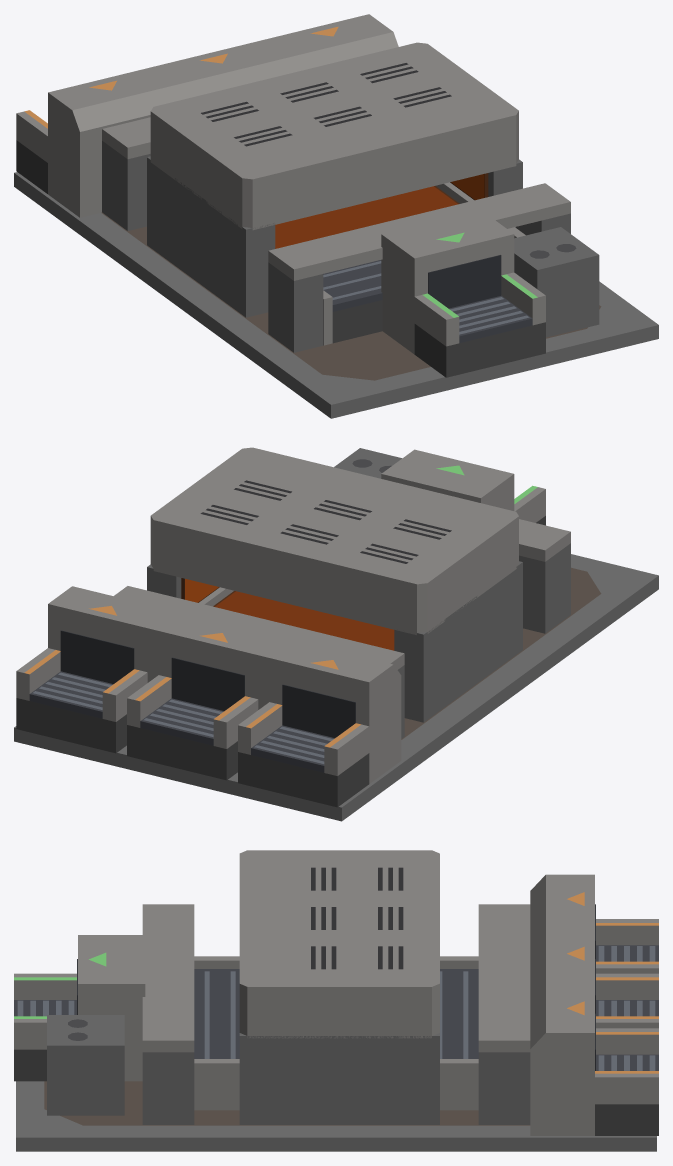
The model's file is vfef_oven.obj.
3 views of the same model, one above another, from view 1: azimuth 30°, elevation 25°; view 2: azimuth 150°, elevation 25°; view 3: azimuth 270°, elevation 25° (orthographic).
Parts seen in each view (by area): view 1: vfef_oven_48, vfef_oven_0, vfef_oven_2, vfef_oven_40, vfef_oven_50, vfef_oven_39, vfef_oven_60, vfef_oven_1, vfef_oven_47, vfef_oven_52, vfef_oven_37, vfef_oven_34 (+13 smaller); view 2: vfef_oven_48, vfef_oven_2, vfef_oven_0, vfef_oven_40, vfef_oven_50, vfef_oven_4, vfef_oven_36, vfef_oven_47, vfef_oven_12, vfef_oven_20, vfef_oven_37, vfef_oven_27 (+20 smaller); view 3: vfef_oven_48, vfef_oven_43, vfef_oven_0, vfef_oven_2, vfef_oven_36, vfef_oven_39, vfef_oven_60, vfef_oven_50, vfef_oven_29, vfef_oven_33, vfef_oven_35, vfef_oven_38 (+22 smaller).
Boxes of the visible parts, <box> form: vfef_oven_48: <box>150,42,518,230</box>; vfef_oven_0: <box>14,172,658,418</box>; vfef_oven_2: <box>48,14,398,217</box>; vfef_oven_40: <box>147,156,275,317</box>; vfef_oven_50: <box>381,210,514,354</box>; vfef_oven_39: <box>268,183,570,280</box>; vfef_oven_60: <box>514,227,599,337</box>; vfef_oven_1: <box>101,212,601,380</box>; vfef_oven_47: <box>275,186,457,248</box>; vfef_oven_52: <box>414,322,545,377</box>; vfef_oven_37: <box>268,262,323,352</box>; vfef_oven_34: <box>102,141,150,230</box>; vfef_oven_48: <box>150,447,518,635</box>; vfef_oven_2: <box>48,586,401,783</box>; vfef_oven_0: <box>14,554,658,821</box>; vfef_oven_40: <box>394,561,522,722</box>; vfef_oven_50: <box>381,449,514,510</box>; vfef_oven_4: <box>238,752,369,807</box>; vfef_oven_36: <box>114,586,404,669</box>; vfef_oven_47: <box>215,591,394,650</box>; vfef_oven_12: <box>127,725,237,780</box>; vfef_oven_20: <box>16,698,126,753</box>; vfef_oven_37: <box>519,543,570,633</box>; vfef_oven_27: <box>60,630,134,683</box>; vfef_oven_48: <box>239,850,439,1038</box>; vfef_oven_43: <box>239,1033,439,1124</box>; vfef_oven_0: <box>16,1081,656,1151</box>; vfef_oven_2: <box>530,874,594,1135</box>; vfef_oven_36: <box>478,904,530,1052</box>; vfef_oven_39: <box>142,904,194,1052</box>; vfef_oven_60: <box>47,1015,124,1115</box>; vfef_oven_50: <box>78,935,145,1081</box>; vfef_oven_29: <box>194,969,478,1058</box>; vfef_oven_33: <box>194,1059,478,1110</box>; vfef_oven_35: <box>478,1052,530,1124</box>; vfef_oven_38: <box>142,1052,194,1124</box>.
Bounding box in the file's own units: 2.96 × 1.3 × 4.99.
